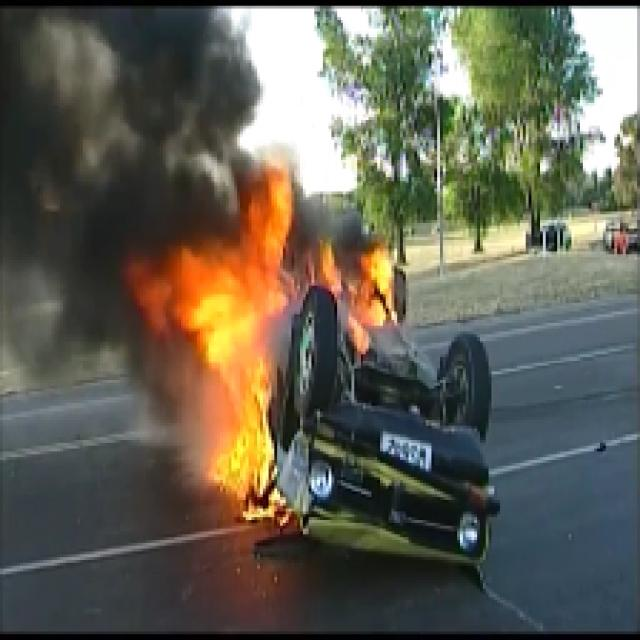fire: (145, 237, 292, 500)
smoke: (8, 9, 230, 233), (70, 244, 124, 339)
